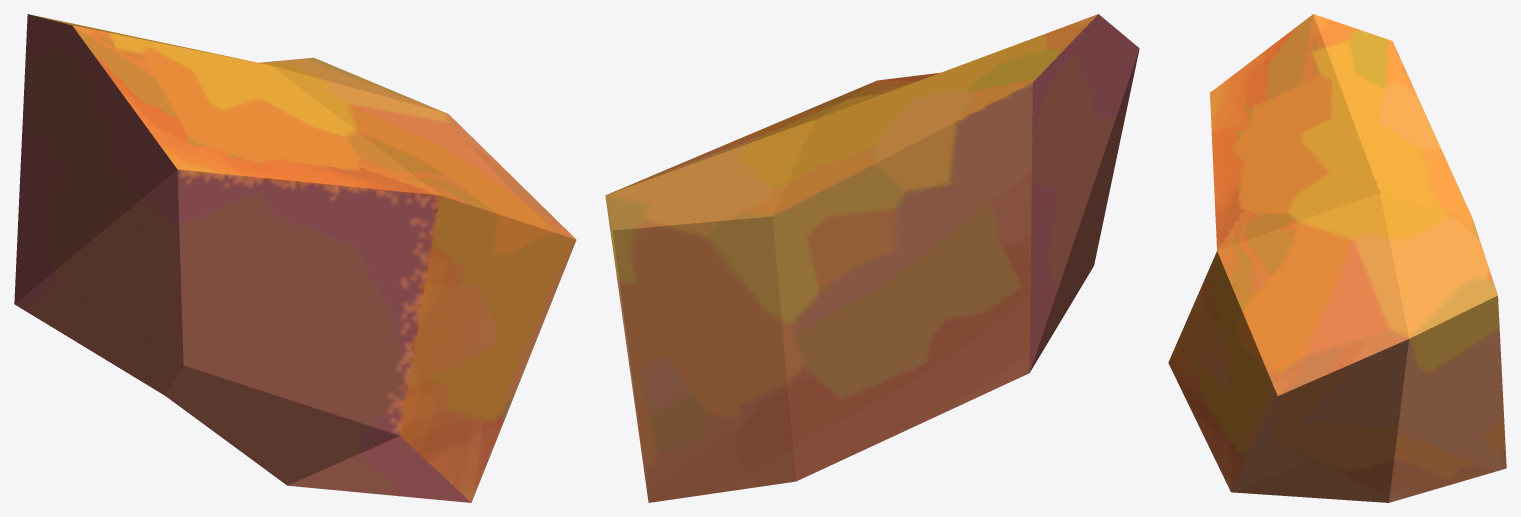
Rendered from Grips3_003Broken.fbx.
3 views of the same model, side by side, from view 1: azimuth 30°, elevation 25°; view 2: azimuth 150°, elevation 25°; view 3: azimuth 270°, elevation 25° (orthographic). The views are drawn at different scales.
Parts seen in each view (by area): view 1: Grips3_003Broken; view 2: Grips3_003Broken; view 3: Grips3_003Broken.
Boxes of the visible parts, x1=… form: Grips3_003Broken: x1=14, y1=14, x2=576, y2=502; Grips3_003Broken: x1=605, y1=14, x2=1139, y2=502; Grips3_003Broken: x1=1168, y1=14, x2=1506, y2=502.
Bounding box in the file's own units: 1.17 × 1.34 × 1.39.
Materials: 1 (1 with a texture image).
